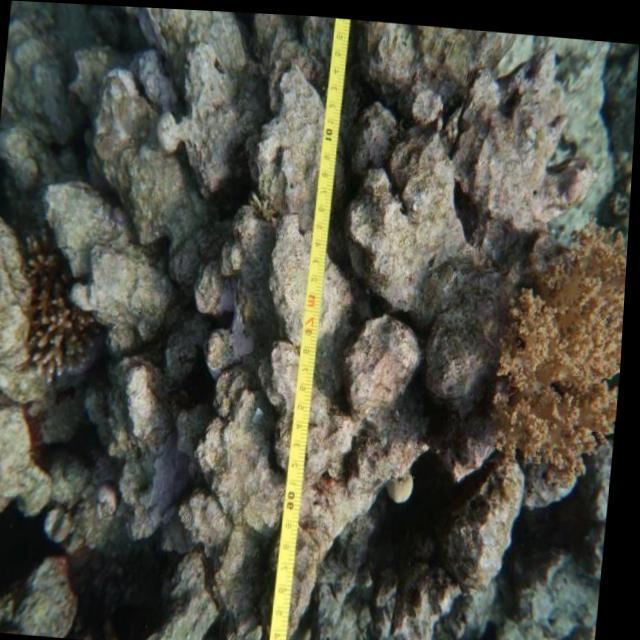Healthy Coral: (477, 203, 631, 479), (16, 242, 101, 389)
